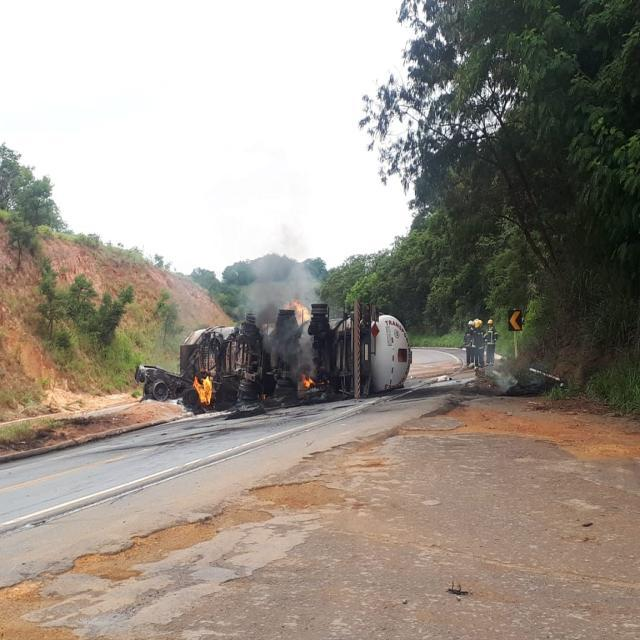Fire: (186, 372, 221, 416), (284, 298, 314, 326), (301, 372, 326, 390)
Smoke: (236, 252, 283, 374), (284, 252, 320, 298), (285, 331, 319, 372)
